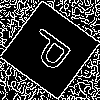P: (24, 25, 81, 79)
